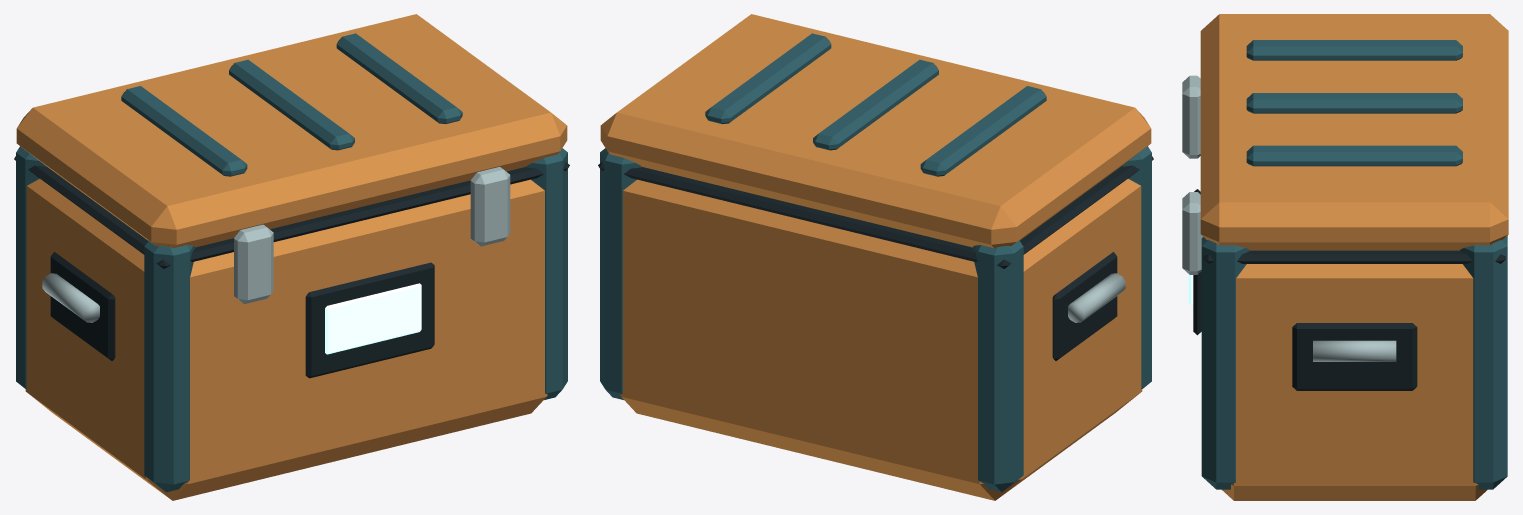
The model's file is mission-case.glb.
The picture shows the model from 3 angles, left to right: view 1: azimuth 30°, elevation 25°; view 2: azimuth 150°, elevation 25°; view 3: azimuth 270°, elevation 25°; orthographic projection.
Visible parts, largest first — view 1: Ribbed equipment case, Lid, Armored corner.001, Status inset, Lid gasket, Armored corner.003, Status screen, Lid rib.002, Lid rib, Lid rib.001, Recess handle, Cam latch.005 (+3 smaller); view 2: Ribbed equipment case, Lid, Armored corner, Lid gasket, Armored corner.002, Lid rib.002, Lid rib, Lid rib.001, Recess handle, Armored corner.001, Carry handle; view 3: Lid, Ribbed equipment case, Armored corner.003, Armored corner.002, Recess handle.001, Lid rib.002, Lid rib, Lid rib.001, Lid gasket, Carry handle.001, Cam latch.005, Cam latch.004 (+1 smaller).
Part boxes in pixels (<box>): Ribbed equipment case: <box>25,179,547,500</box>; Lid: <box>16,14,567,248</box>; Armored corner.001: <box>144,240,194,492</box>; Status inset: <box>305,262,434,378</box>; Lid gasket: <box>14,156,569,268</box>; Armored corner.003: <box>526,148,567,399</box>; Status screen: <box>325,283,421,354</box>; Lid rib.002: <box>336,33,462,123</box>; Lid rib: <box>121,86,247,176</box>; Lid rib.001: <box>229,59,354,150</box>; Recess handle: <box>50,252,115,360</box>; Cam latch.005: <box>470,167,510,246</box>; Ribbed equipment case: <box>620,179,1142,500</box>; Lid: <box>600,14,1151,248</box>; Armored corner: <box>973,240,1023,492</box>; Lid gasket: <box>598,156,1153,268</box>; Armored corner.002: <box>600,148,641,399</box>; Lid rib.002: <box>705,33,831,123</box>; Lid rib: <box>920,86,1046,176</box>; Lid rib.001: <box>813,59,938,150</box>; Recess handle: <box>1052,252,1117,360</box>; Armored corner.001: <box>1121,146,1151,388</box>; Carry handle: <box>1068,273,1125,322</box>; Lid: <box>1200,14,1508,250</box>; Ribbed equipment case: <box>1222,236,1506,500</box>; Armored corner.003: <box>1201,237,1249,489</box>; Armored corner.002: <box>1460,237,1507,489</box>; Recess handle.001: <box>1292,323,1417,390</box>; Lid rib.002: <box>1246,145,1462,166</box>; Lid rib: <box>1246,40,1462,60</box>; Lid rib.001: <box>1246,93,1462,113</box>; Lid gasket: <box>1203,250,1505,263</box>; Carry handle.001: <box>1313,340,1396,361</box>; Cam latch.005: <box>1182,192,1202,274</box>; Cam latch.004: <box>1182,75,1200,158</box>.
Size of the model in its own units: 1.28 by 0.8395 by 0.7845.
